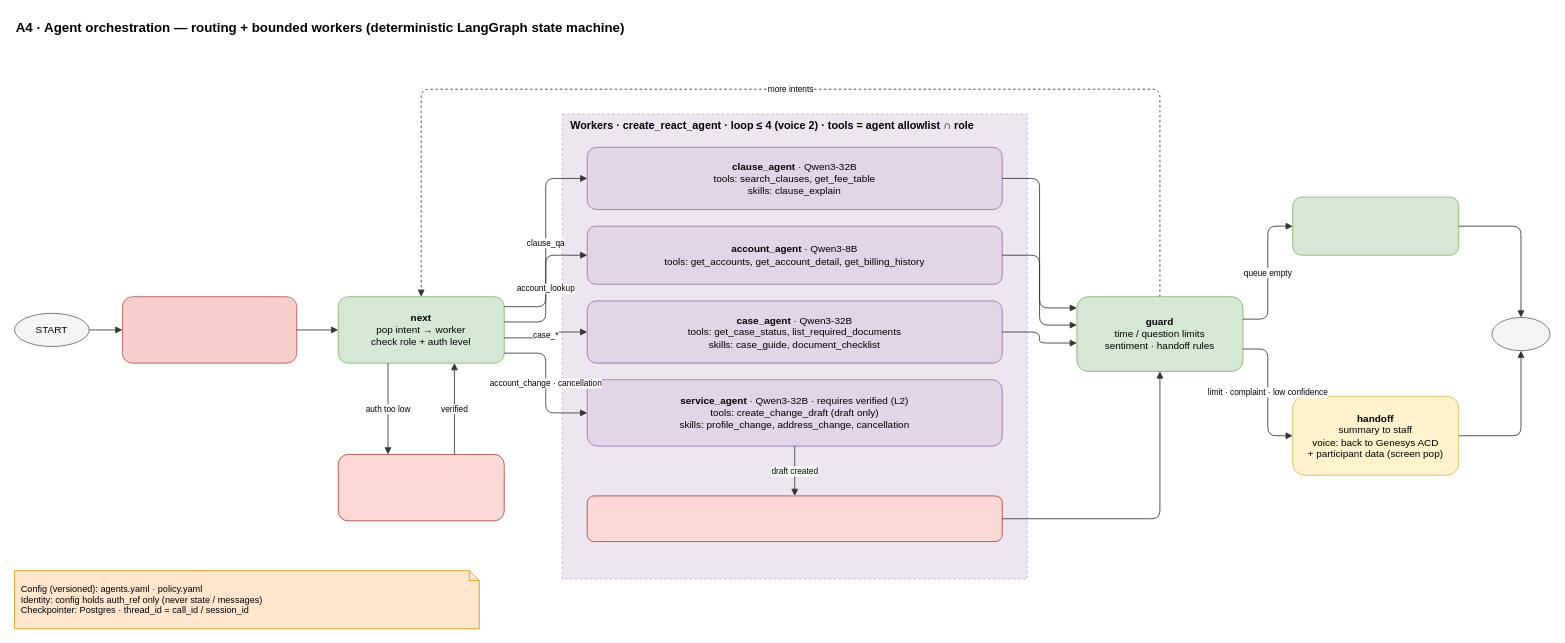
This 1565x643 diagram has some shape labels left out. The box of each missing label's shape, as (x1, y1, x2, y2) in pixels:
approve · interrupt() → human approval: (586, 495, 1002, 542)
classify Qwen3-8B · response_format multi-intent (fixed enum): (122, 296, 297, 363)
END: (1491, 317, 1550, 351)
finish summary → CRM · events: (1292, 196, 1459, 255)
verify (subgraph) voice: SMS OTP + DOB chat: SSO / step-up: (337, 454, 504, 521)
